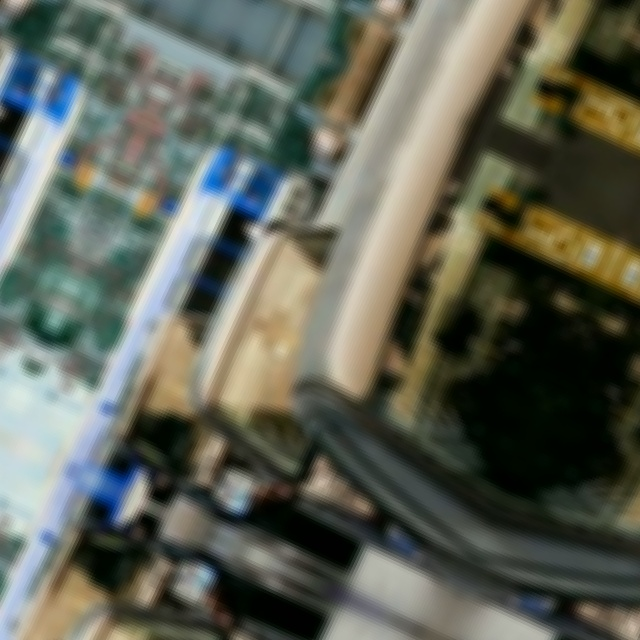ISA: (520, 213, 579, 262), (579, 87, 638, 135)
